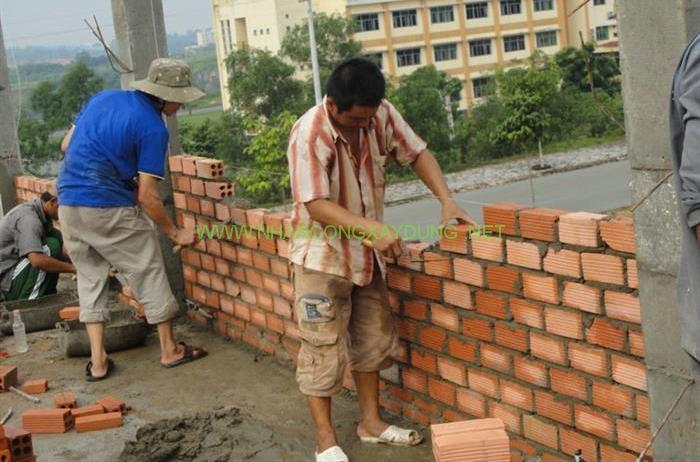Person: (285, 56, 479, 461), (55, 56, 208, 381), (0, 190, 76, 302)
Safety Boot: (11, 308, 28, 353)
bare-arms: (364, 224, 405, 268), (439, 200, 480, 240), (169, 221, 201, 249)
no-boot: (353, 417, 421, 448), (157, 338, 205, 367), (313, 429, 346, 462), (85, 353, 120, 379)
no-helmet: (128, 56, 206, 104), (326, 53, 400, 97)
no-vest: (285, 95, 427, 285), (51, 90, 172, 221)
